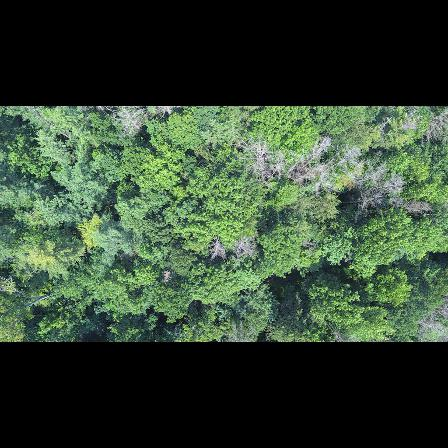Dead: (286, 138, 323, 178), (314, 150, 360, 180), (243, 137, 273, 180), (416, 109, 447, 149), (336, 192, 385, 217), (371, 178, 413, 200), (397, 193, 431, 219), (232, 236, 259, 261), (204, 238, 229, 264)
